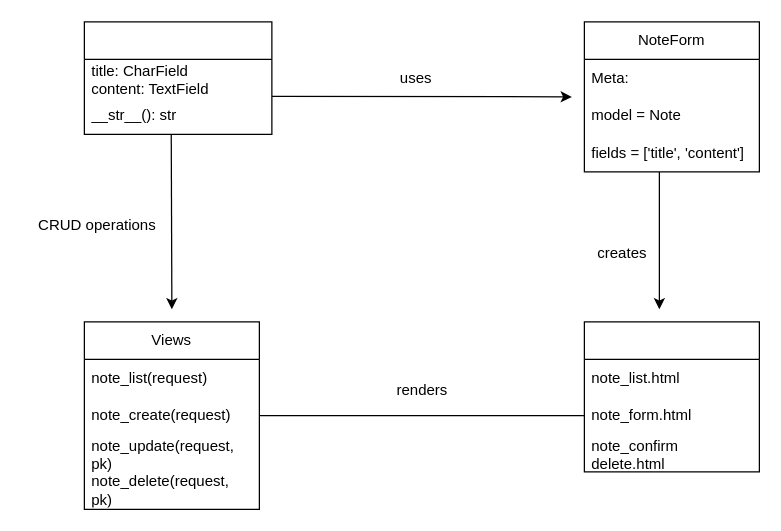
This 781x531 diagram has some shape labels left out. The shapes that lost their labels are listed below. From the top down, each one's box as (x1, y1, x2, y2) in pixels, then its label:
(83, 21, 272, 134): Note
(583, 321, 759, 472): Template
